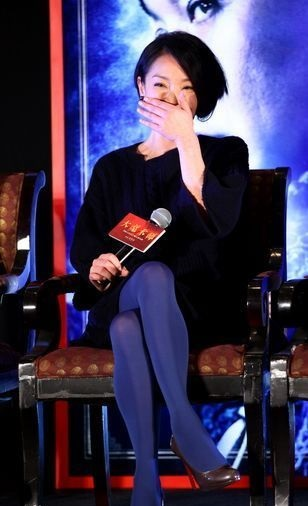face: (143, 56, 194, 140)
